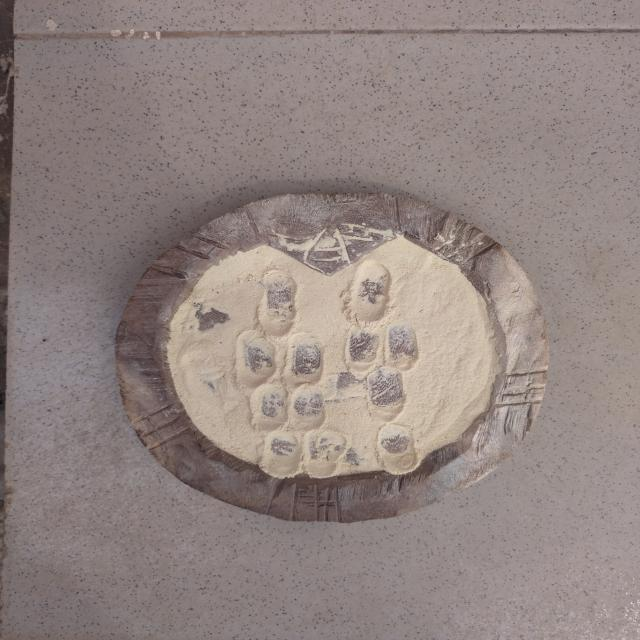double: (250, 431, 348, 484), (234, 330, 328, 384), (244, 384, 332, 434), (337, 322, 424, 368)
single: (342, 260, 400, 326), (371, 420, 427, 476), (254, 270, 302, 330), (364, 364, 412, 422)
